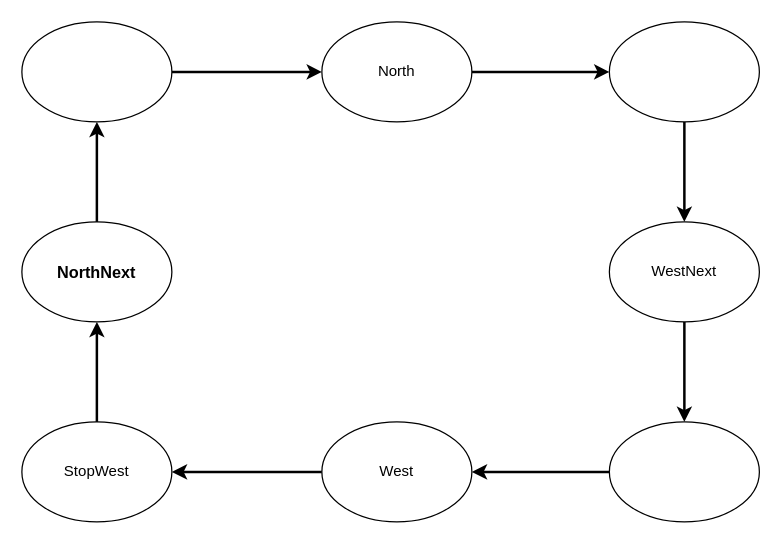
Image size: 781x544. Some labels were removed from this diagram. Each missing label, with the box of its shape:
StartNorth: (21, 21, 172, 122)
StartWest: (608, 421, 759, 522)
StopNorth: (608, 21, 759, 122)
